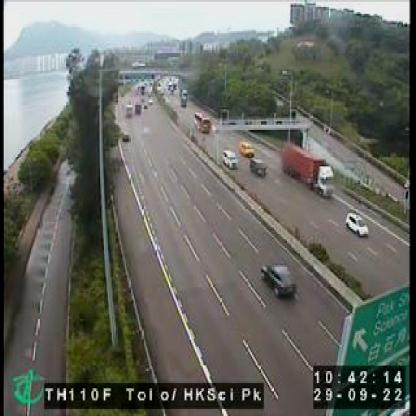Bus: (192, 109, 210, 135)
Car: (260, 262, 302, 298), (343, 210, 371, 236), (247, 156, 264, 182), (221, 149, 239, 172), (238, 140, 253, 162), (121, 130, 129, 140)
Truck: (280, 139, 330, 201)
